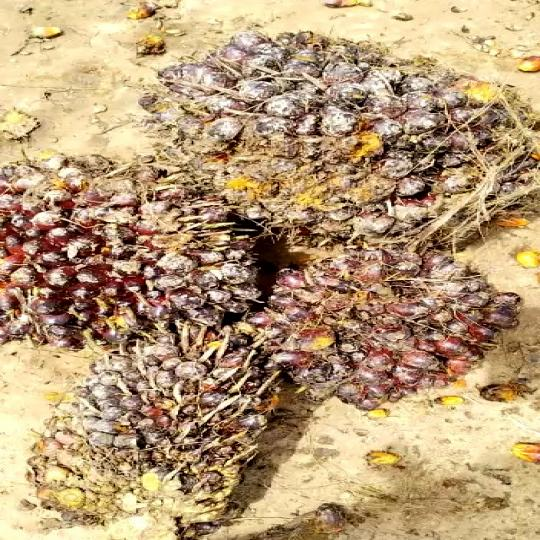kurang masak: (166, 27, 540, 251), (0, 129, 291, 343), (21, 327, 304, 540), (260, 232, 492, 421)
